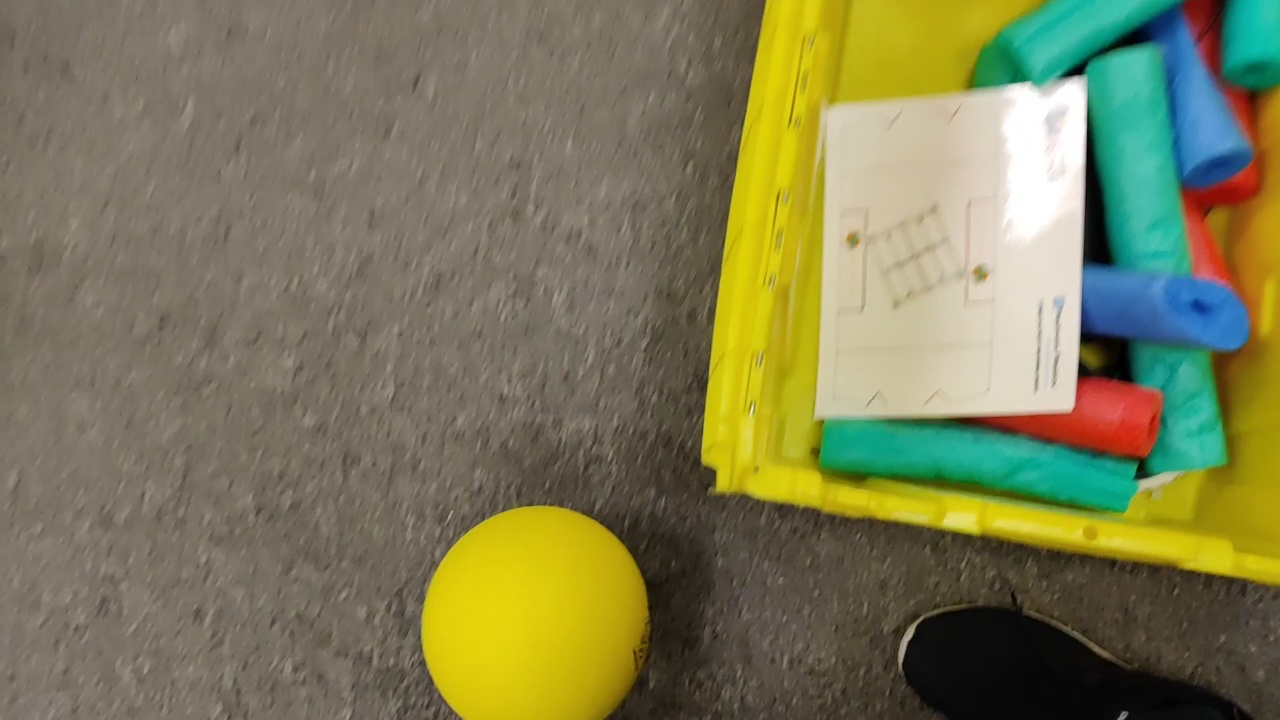Ball: (421, 506, 652, 720)
